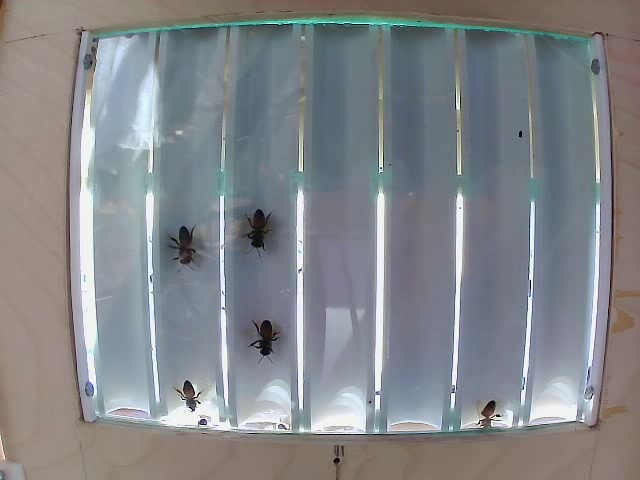bee: (247, 320, 291, 364), (163, 226, 203, 266), (469, 393, 505, 436), (250, 205, 281, 250), (171, 377, 210, 406)
